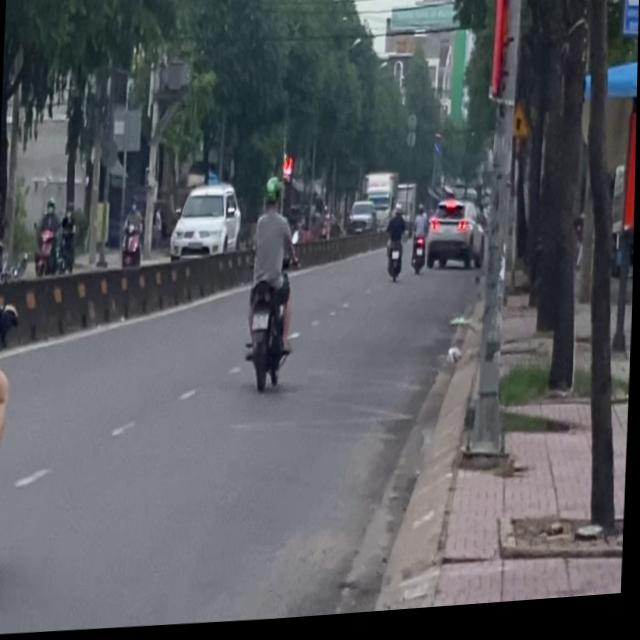licenseplate: (0, 141, 21, 596)
